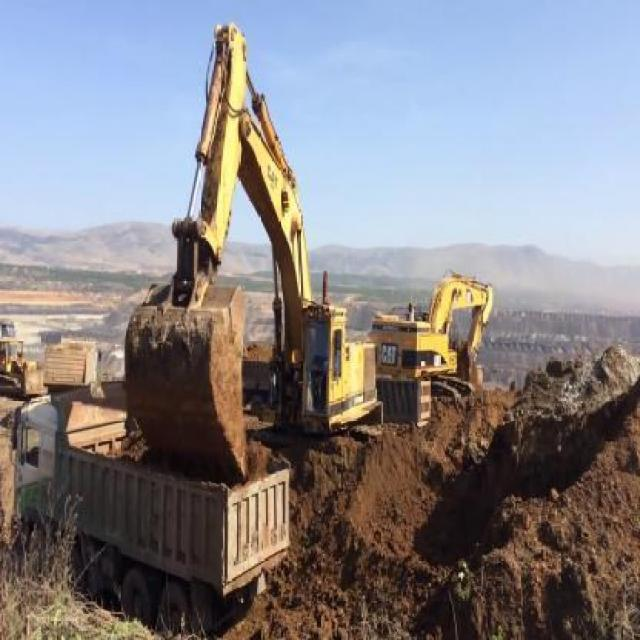Dump Truck: (16, 385, 289, 630), (382, 375, 433, 430), (41, 334, 98, 380)
Excavator: (128, 4, 390, 511), (370, 260, 501, 418)
